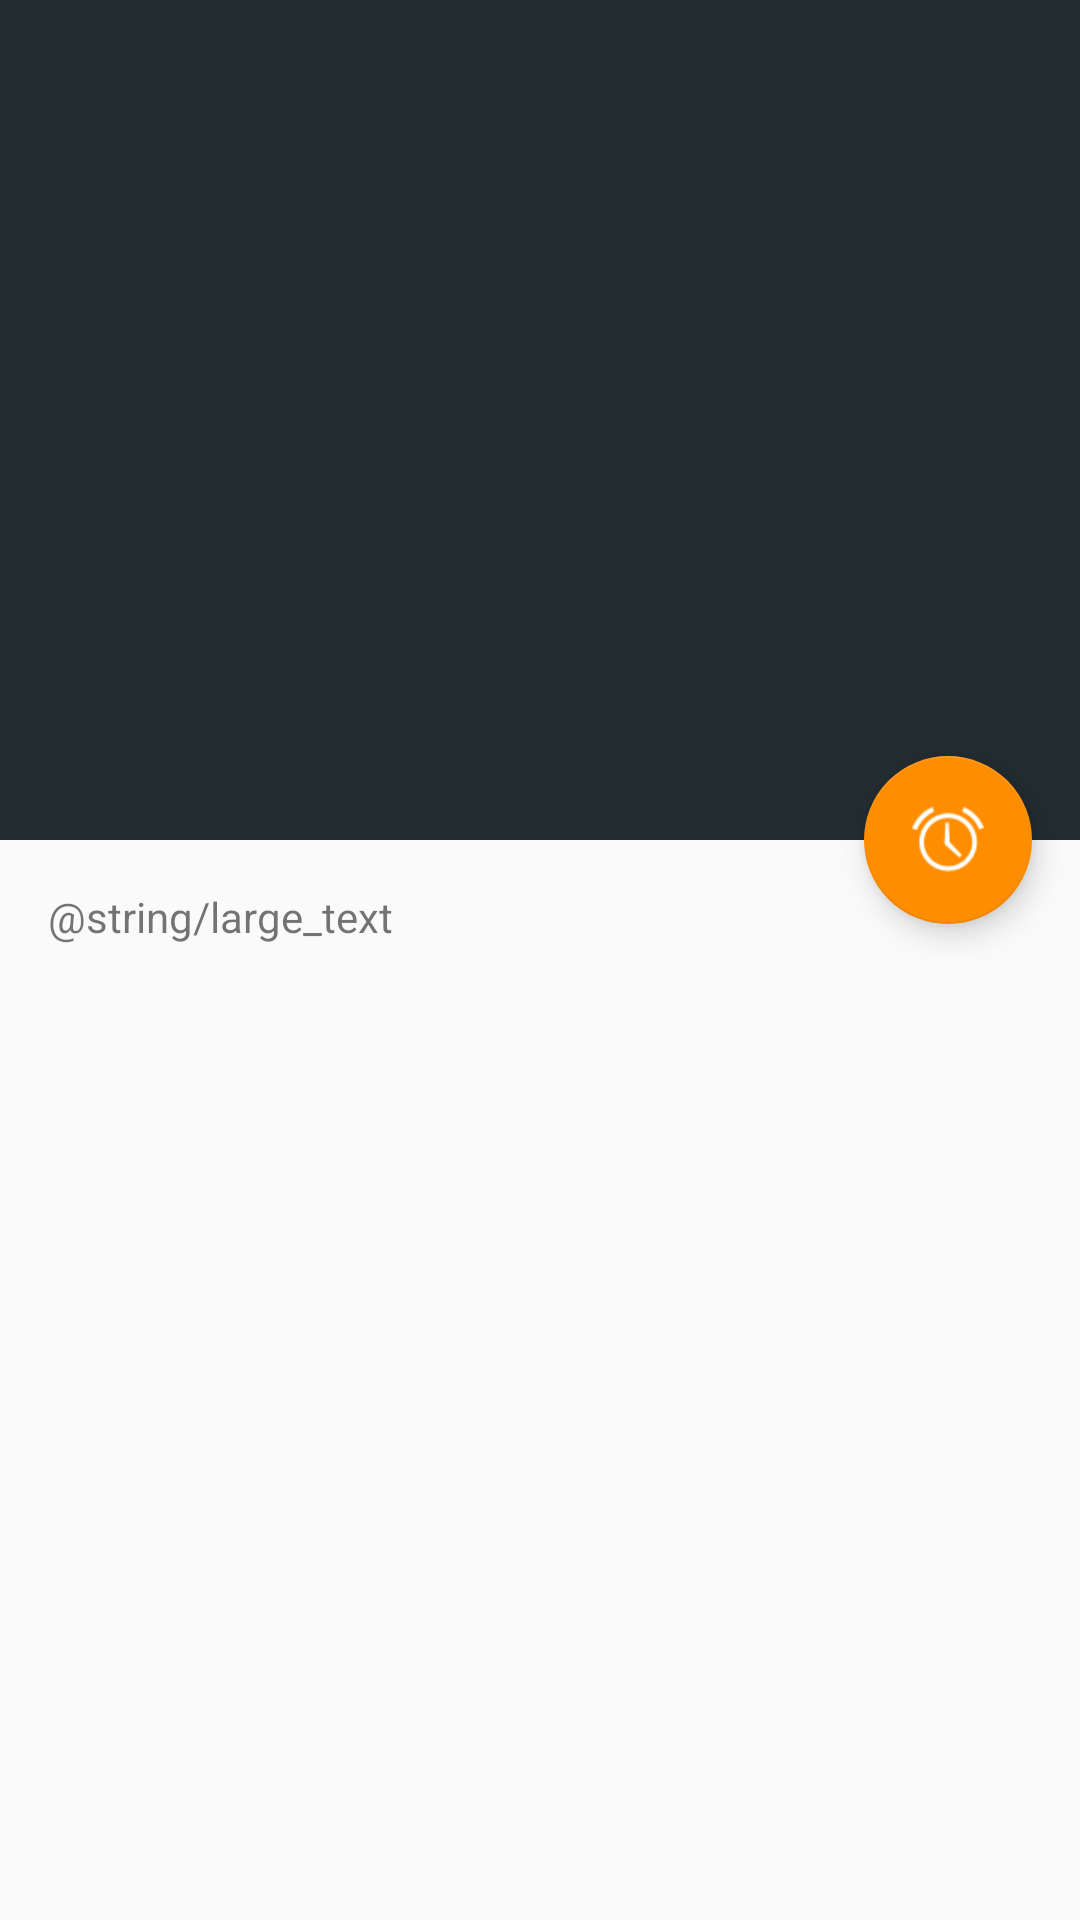

Icons on this 1080 x 1920 Android screen, each with the point to tap as (x=x, y=y):
lock idle alarm: (x=948, y=840)
